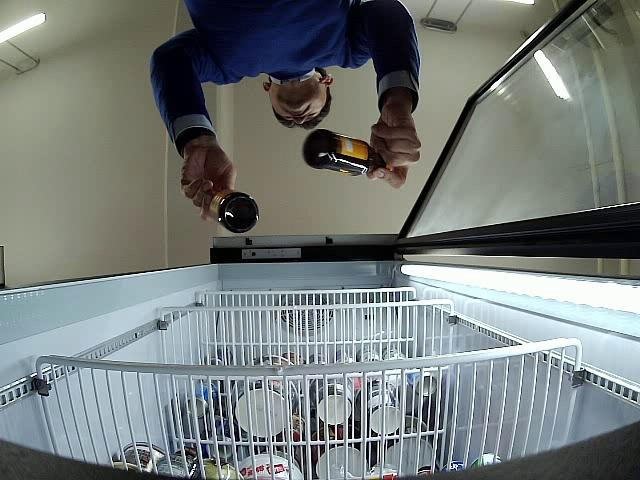00_hand: (367, 106, 421, 188), (181, 146, 236, 219)
17_vita500: (303, 128, 385, 178), (210, 186, 259, 234)
